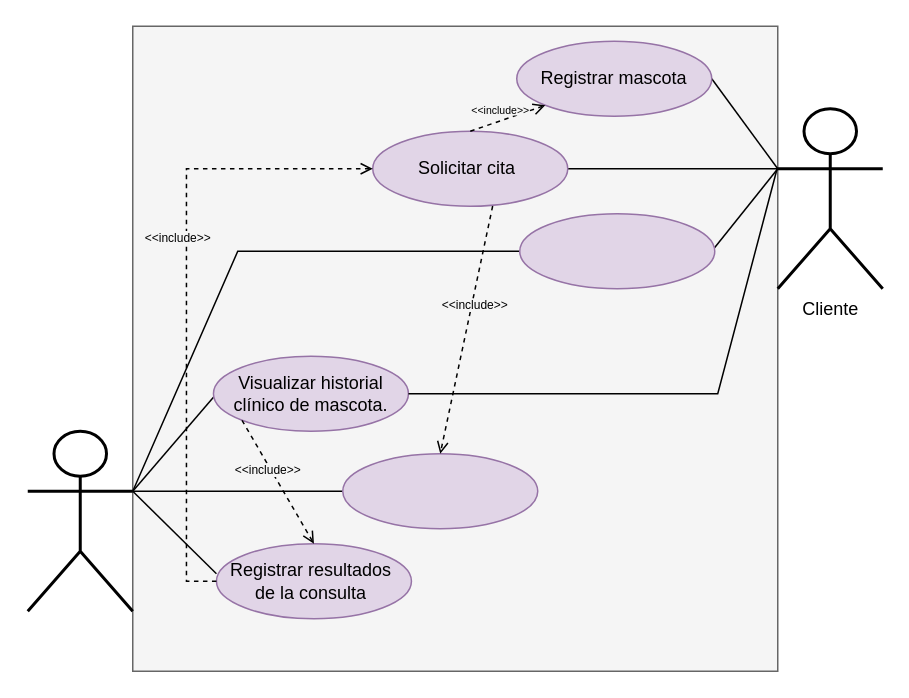
Some shapes in this 909 by 698 pixel diagram are drawn without their labels. The shapes that lost their labels are listed below. From the top down, each one's centre as x and y in pixels, then its label:
At [616,250]: "Loguear usuario según perfil.".
At [439,490]: "Registrar disponibilidad.".
At [80,520]: "Veterinario".
